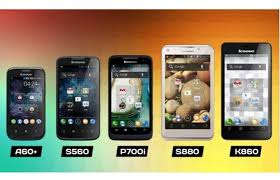lenovo: (219, 40, 272, 142), (161, 41, 214, 143), (106, 52, 154, 142), (53, 52, 101, 142), (3, 65, 49, 142)
